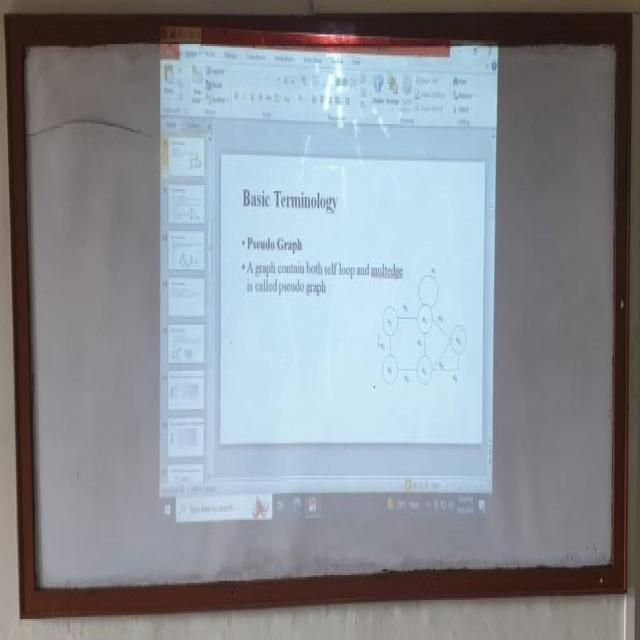Slide: (159, 28, 499, 533)
White-board: (10, 23, 625, 603)
